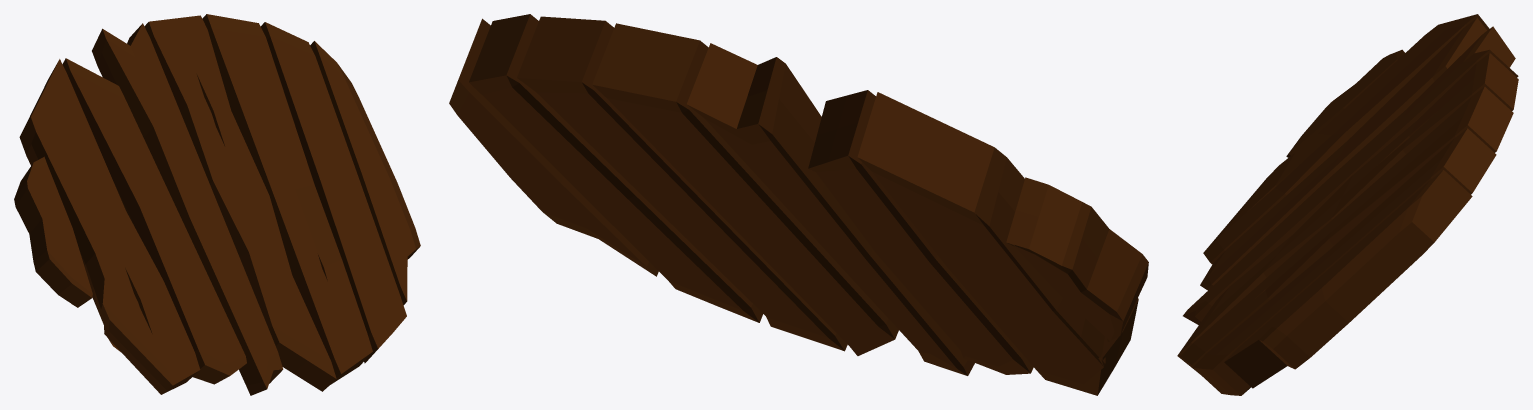
Rendered from alvo_facas.fbx.
3 renders of one model, left to right at view 1: azimuth 30°, elevation 25°; view 2: azimuth 150°, elevation 25°; view 3: azimuth 270°, elevation 25°, orthographic. The views are drawn at different scales.
Parts seen in each view (by area): view 1: Cube; view 2: Cube; view 3: Cube.
Part boxes in pixels (x1,y1,x2,y2): Cube: (14, 14, 420, 395); Cube: (449, 14, 1148, 395); Cube: (1177, 14, 1518, 395).
Size of the model in its own units: 70.61 by 55.67 by 55.83.
